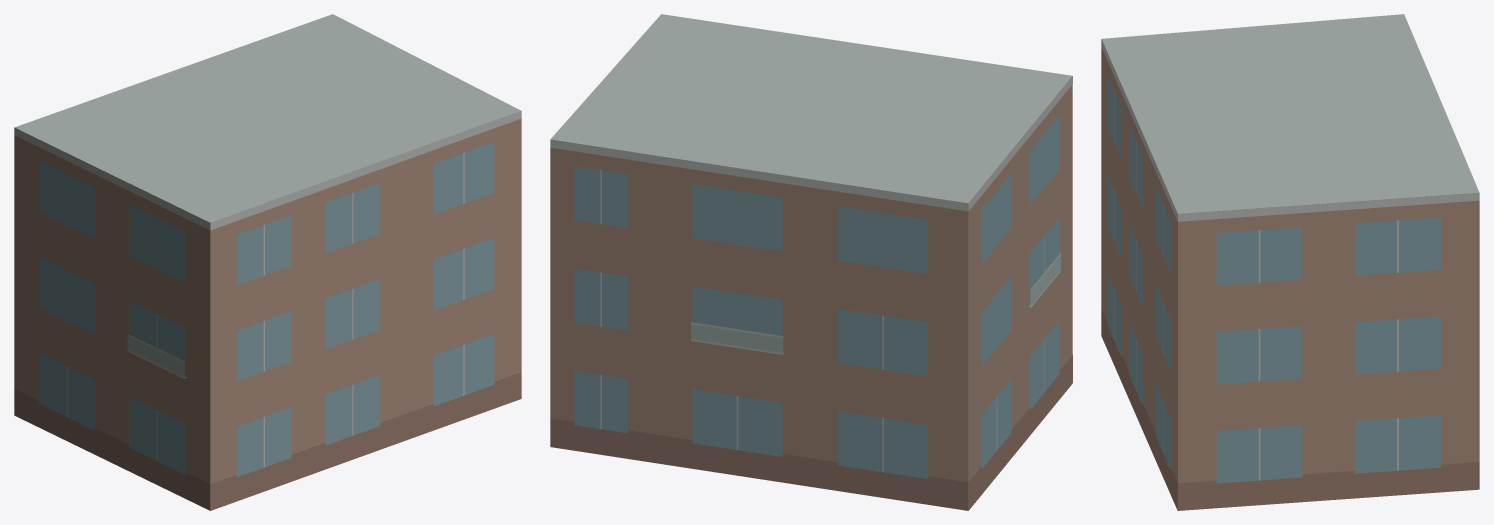
Rendered from survey-upis-32917985.glb.
The picture shows the model from 3 angles, left to right: view 1: azimuth 30°, elevation 25°; view 2: azimuth 150°, elevation 25°; view 3: azimuth 270°, elevation 25°; orthographic projection. The views are drawn at different scales.
Visible parts, largest first — view 1: survey-upis-32917985.tmp; view 2: survey-upis-32917985.tmp; view 3: survey-upis-32917985.tmp.
Part boxes in pixels (bbox=[...]): survey-upis-32917985.tmp: bbox=[14, 14, 521, 510]; survey-upis-32917985.tmp: bbox=[550, 14, 1072, 510]; survey-upis-32917985.tmp: bbox=[1101, 14, 1479, 510].
Size of the model in its own units: 13.22 by 9.15 by 10.57.
